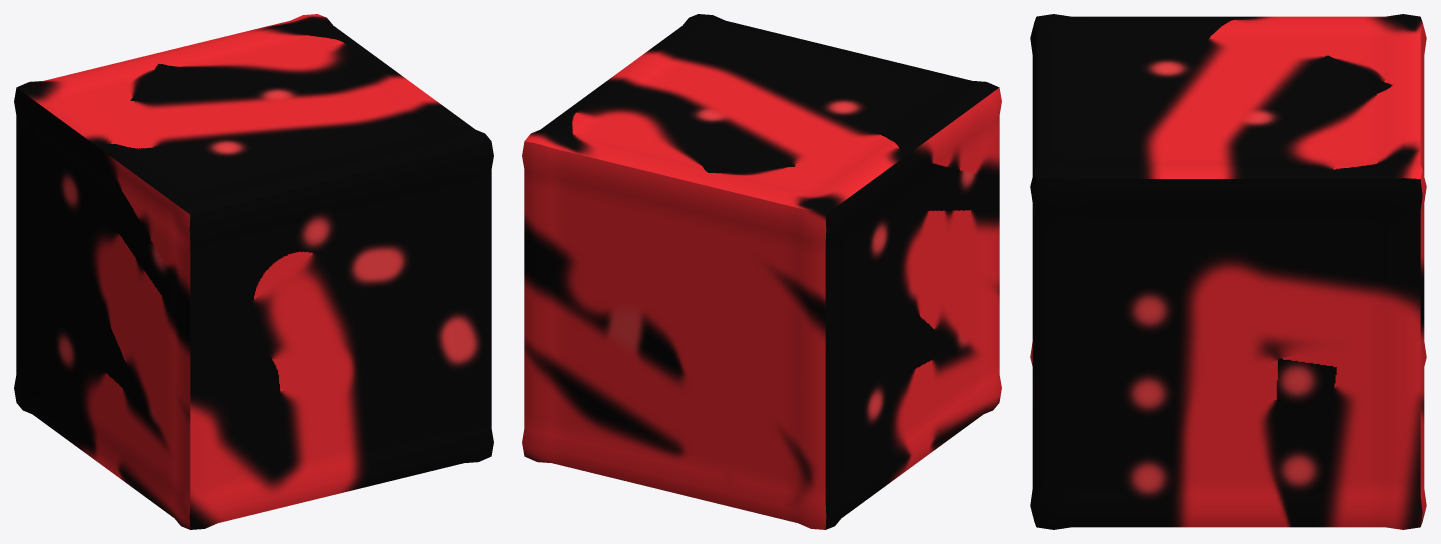
File: bad_cube.glb
3 views of the same model, side by side, from view 1: azimuth 30°, elevation 25°; view 2: azimuth 150°, elevation 25°; view 3: azimuth 270°, elevation 25° (orthographic). The views are drawn at different scales.
Visible parts, largest first — view 1: Cube_Cube.001; view 2: Cube_Cube.001; view 3: Cube_Cube.001.
Boxes of the visible parts, <box> form: Cube_Cube.001: <box>14,14,493,529</box>; Cube_Cube.001: <box>522,14,1001,529</box>; Cube_Cube.001: <box>1030,14,1426,529</box>.
Bounding box in the file's own units: 2.06 × 2.06 × 2.06.
1 material, 1 textured.
